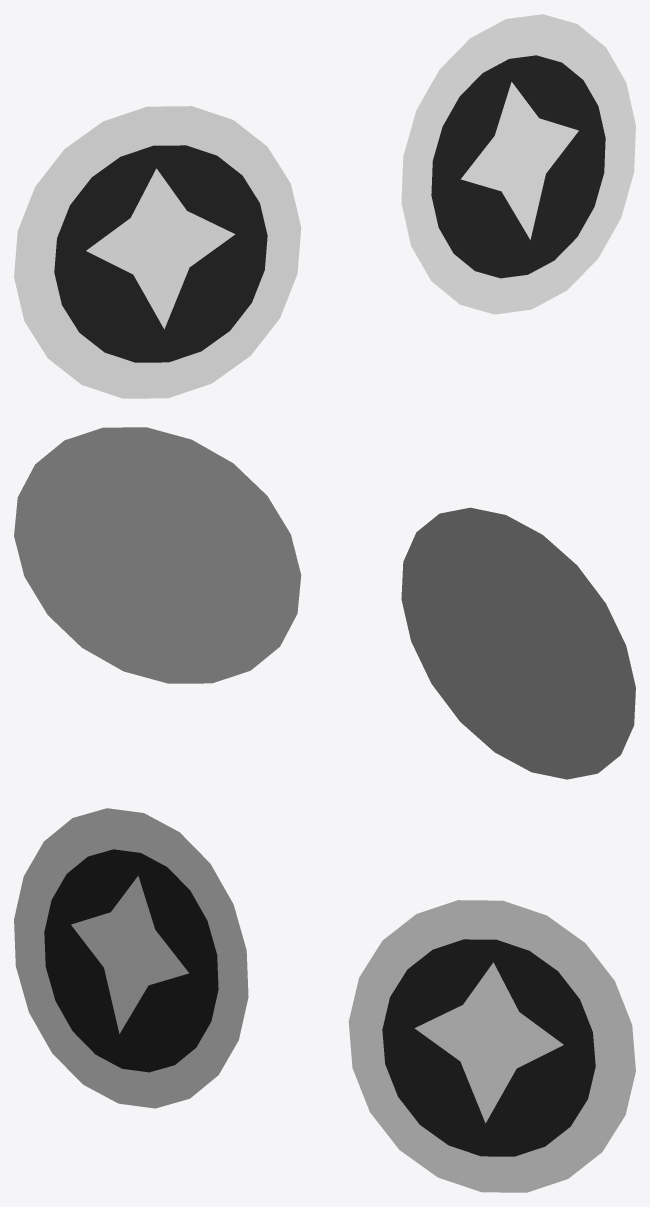
Rendered from eye_6.fbx.
The picture shows the model from 3 angles, top to bottom: view 1: azimuth 30°, elevation 25°; view 2: azimuth 150°, elevation 25°; view 3: azimuth 330°, elevation 25°; orthographic projection.
Visible parts, largest first — view 1: eye_6; view 2: eye_6; view 3: eye_6.
Part boxes in pixels (left/top/right/bottom): eye_6: left=14, top=14, right=635, bottom=398; eye_6: left=14, top=427, right=635, bottom=779; eye_6: left=14, top=808, right=635, bottom=1192.
Bounding box in the file's own units: 0.9866 × 0.4152 × 0.0964.
